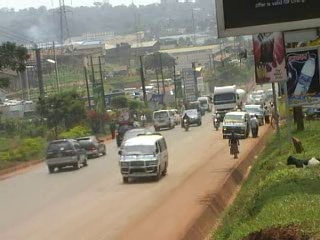Car: (44, 134, 90, 175), (75, 135, 107, 159), (111, 121, 139, 144), (183, 107, 203, 126), (185, 100, 207, 117), (169, 107, 185, 125)
Motorcycle: (210, 108, 221, 131), (181, 111, 190, 132)
